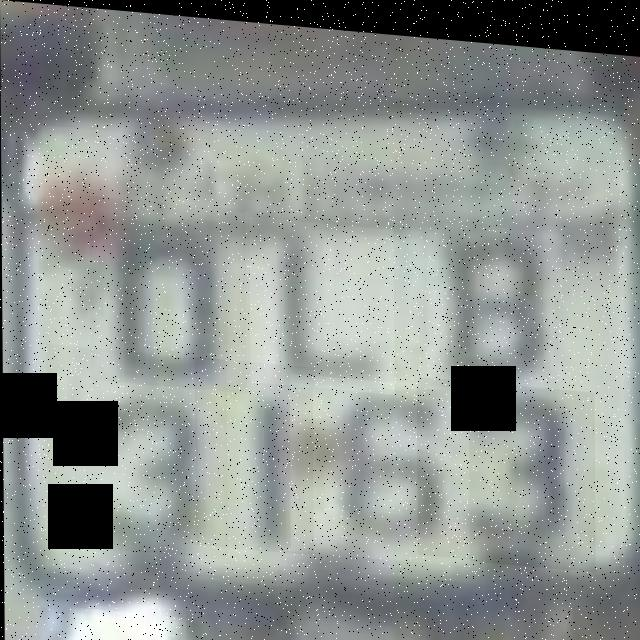1: (194, 353, 316, 550)
3: (46, 343, 227, 556), (418, 369, 595, 561)
6: (290, 368, 471, 560)
B: (426, 214, 562, 390)
J: (249, 212, 394, 387)
O: (89, 194, 246, 389)
